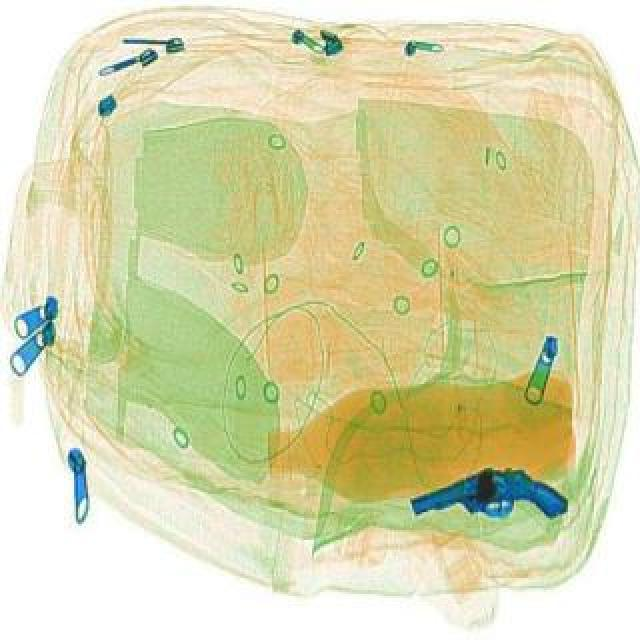gun: (412, 450, 580, 550)
